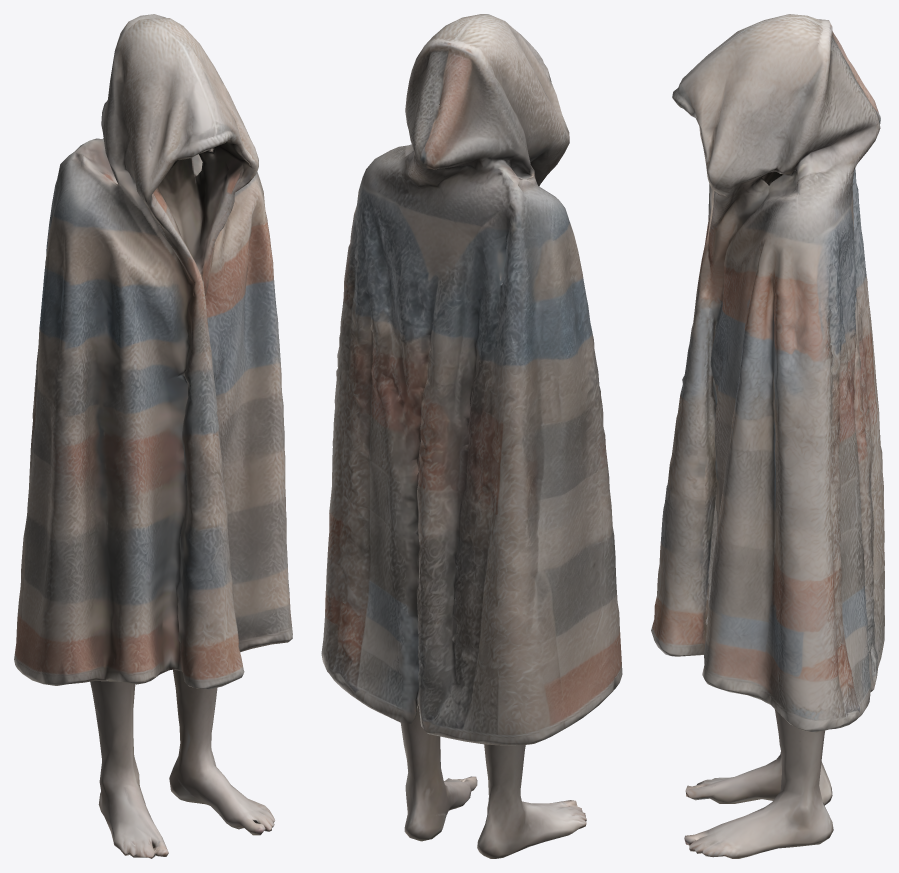
The model's file is VAR_PoolHall_SwimCapFigure_Hood.fbx.
The picture shows the model from 3 angles, left to right: view 1: azimuth 30°, elevation 25°; view 2: azimuth 150°, elevation 25°; view 3: azimuth 270°, elevation 25°; orthographic projection. The views are drawn at different scales.
Parts seen in each view (by area): view 1: texture_mapping; view 2: texture_mapping; view 3: texture_mapping.
Boxes of the visible parts, x1,y1,x2,y2 form: texture_mapping: [14, 14, 292, 858]; texture_mapping: [321, 14, 622, 858]; texture_mapping: [651, 14, 884, 858].
Size of the model in its own units: 0.3485 by 0.2627 by 1.
Materials: 1 (1 with a texture image).
